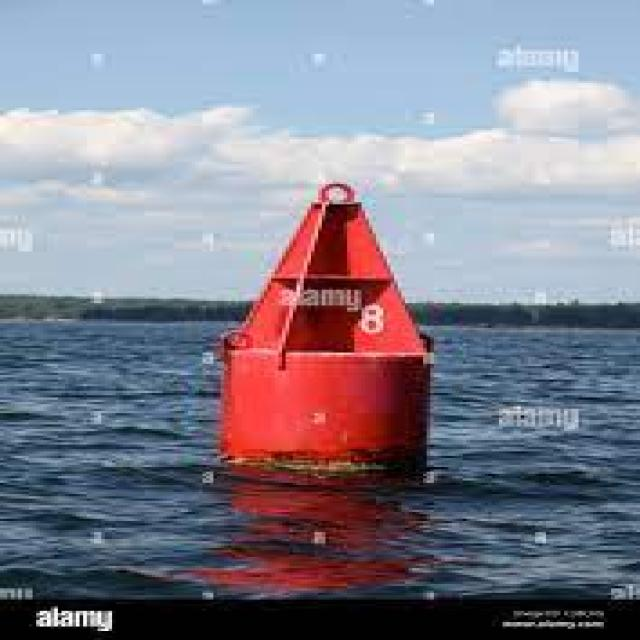marque: (177, 165, 479, 495)
